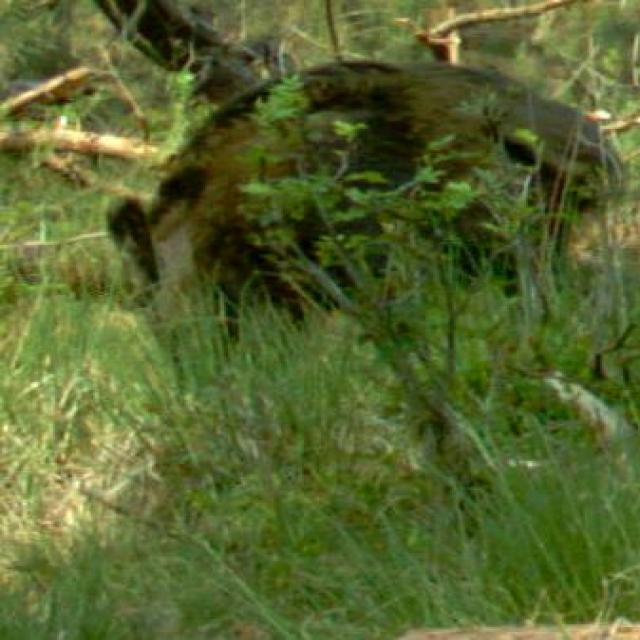pig: (116, 56, 640, 375)
